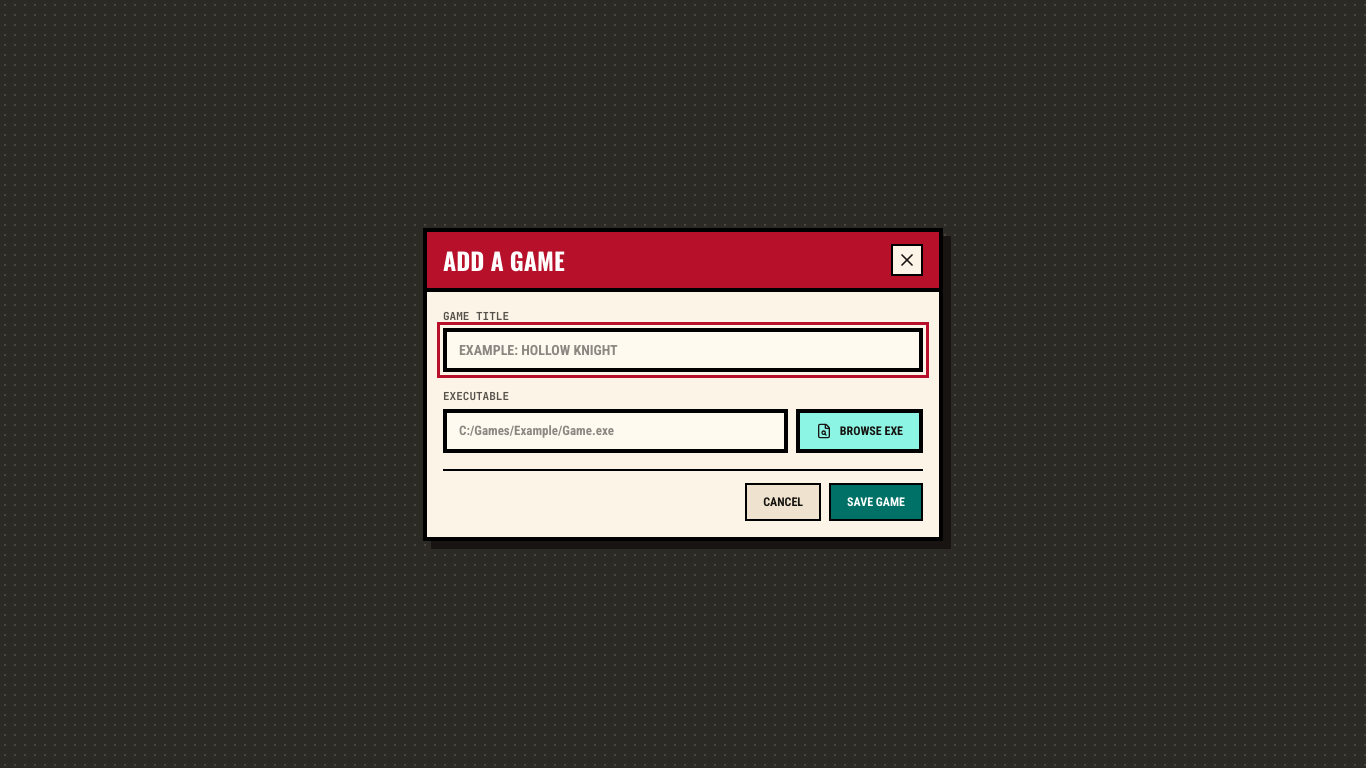
Scenario: AddGameDialog executable picker › rejects a manually entered non-executable Windows file before persisting it
Type "Readme" into the field labelled "Game title" at (683, 350), box [443, 328, 923, 372]
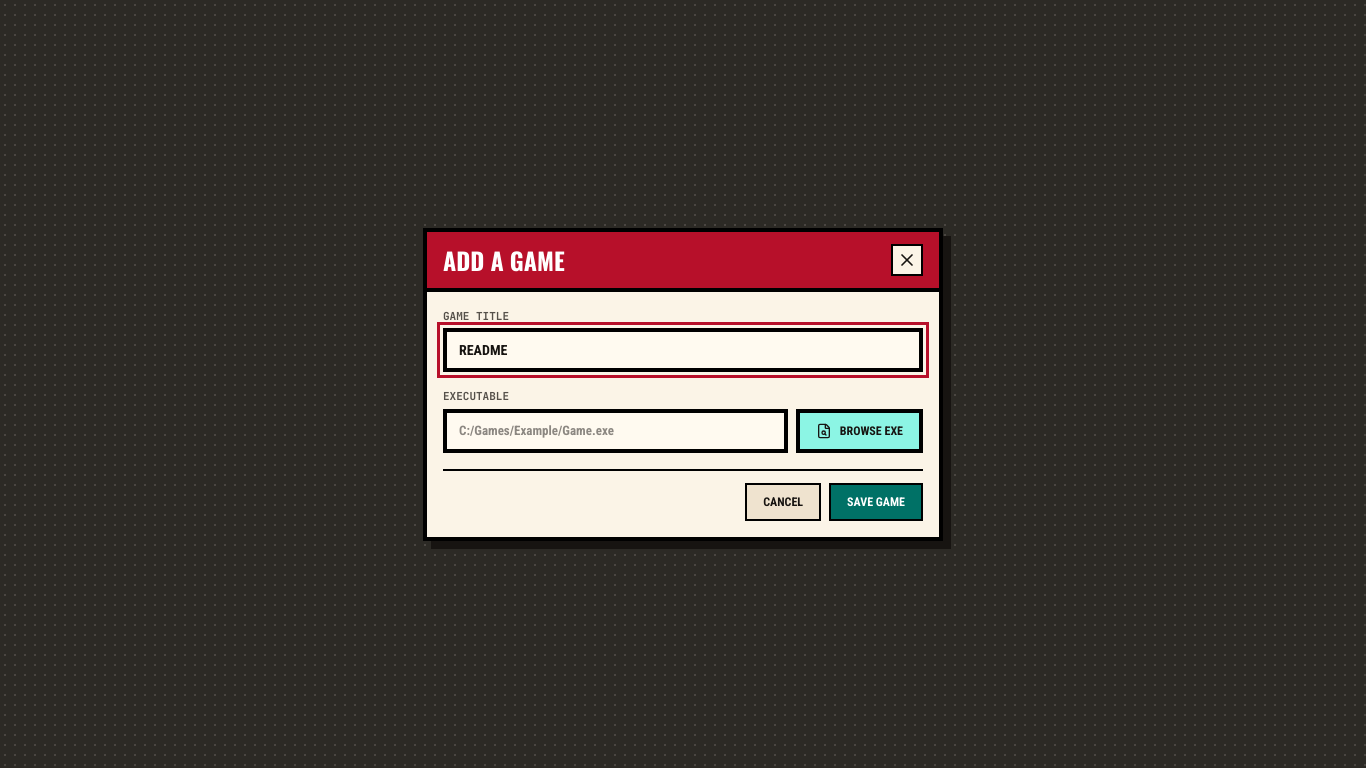
Type "C:\\Games\\Readme.txt" into the field labelled "Executable Browse EXE" at (615, 430), box [443, 408, 788, 452]
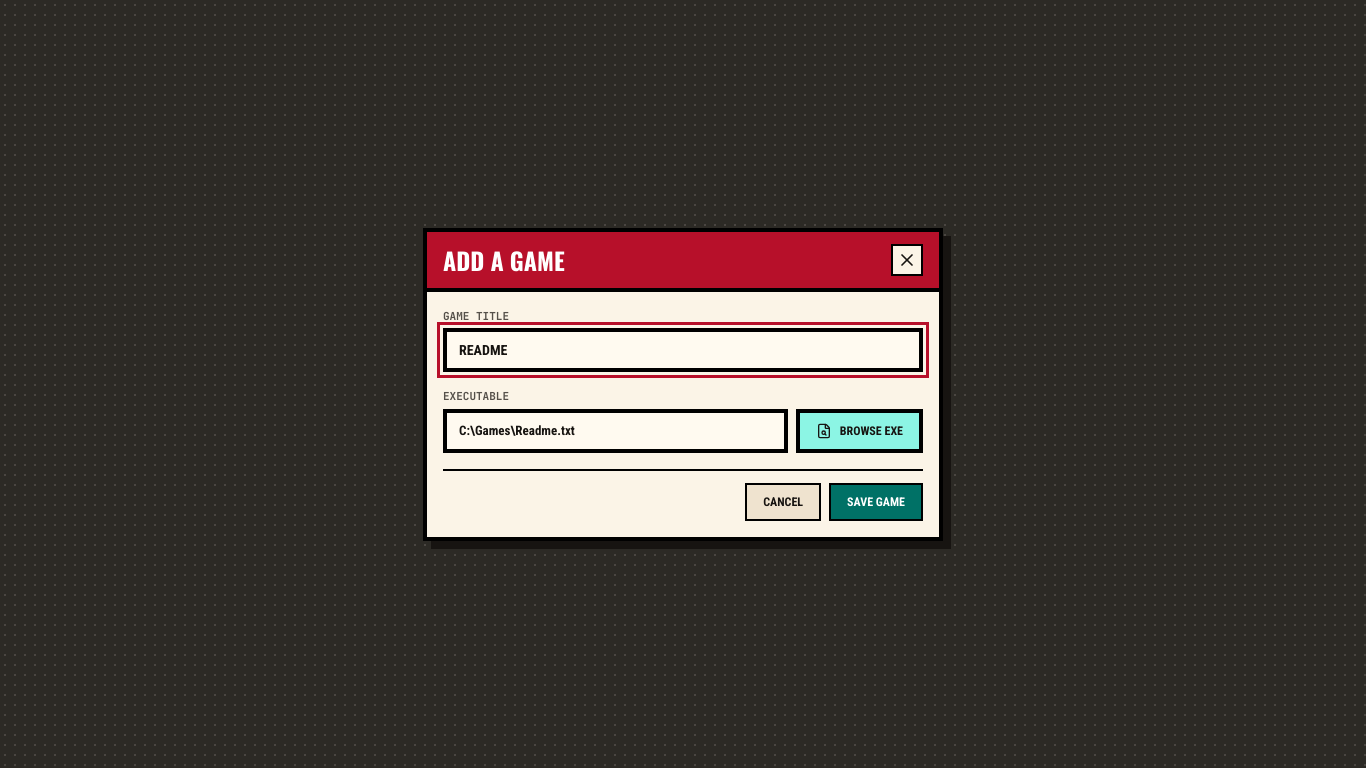
Click the button "Save Game" at (876, 502), box [829, 482, 923, 520]
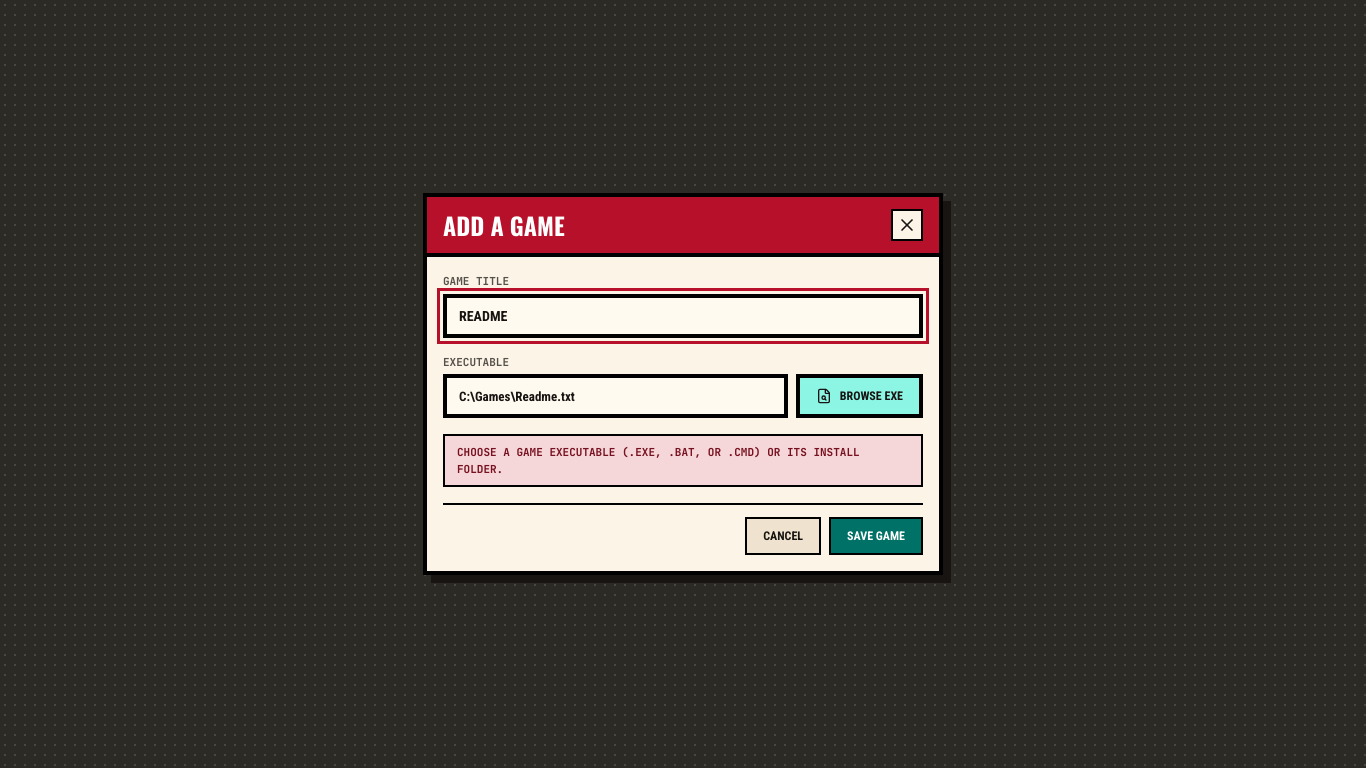
Expected: the text "Choose a game executable (.exe, .bat, or .cmd) or its install folder." is shown, [443, 434, 923, 487]
